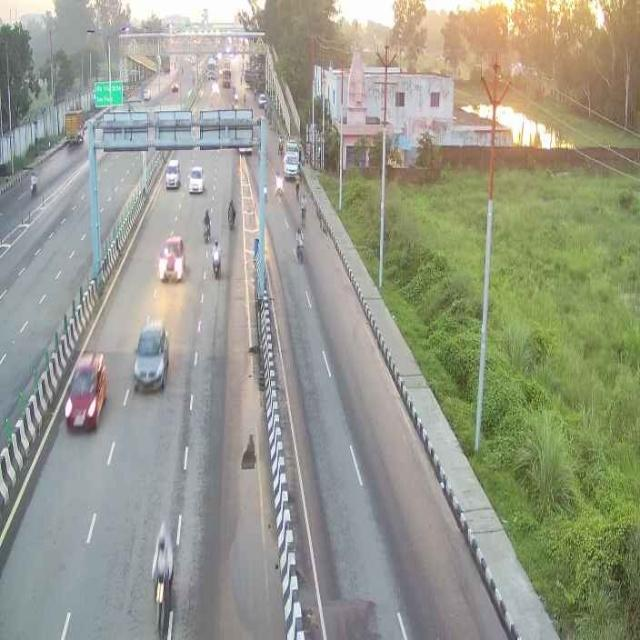car: (63, 346, 109, 433), (132, 318, 170, 394), (157, 233, 187, 286), (163, 156, 183, 192), (186, 163, 206, 197)
